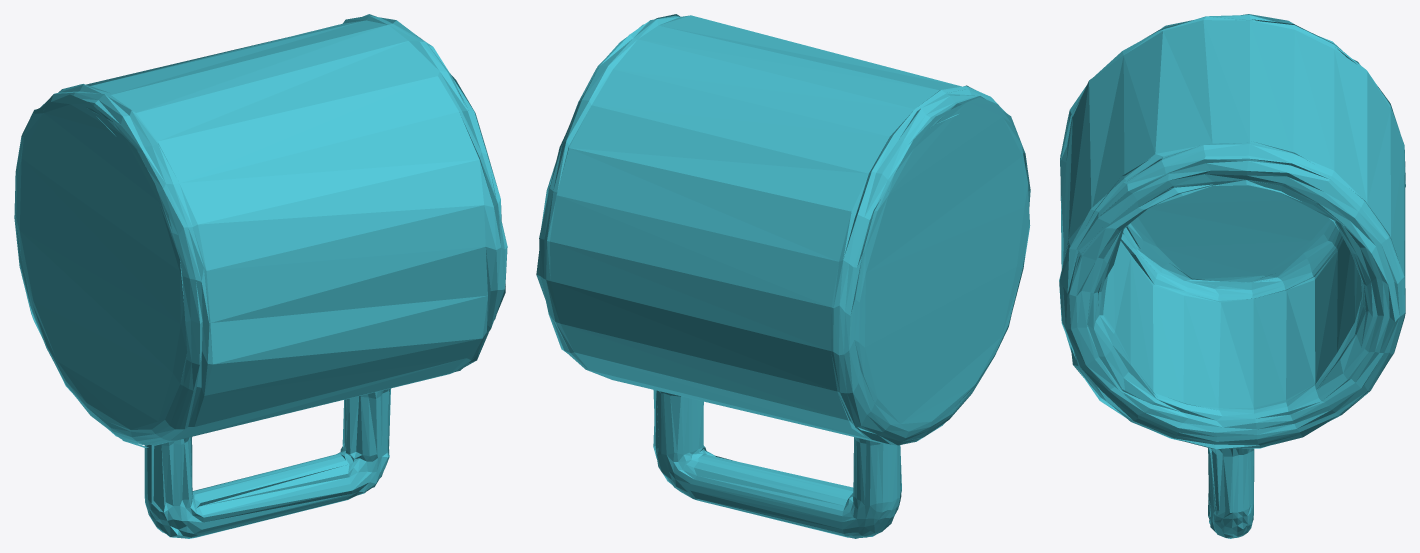
The picture shows the model from 3 angles, left to right: view 1: azimuth 30°, elevation 25°; view 2: azimuth 150°, elevation 25°; view 3: azimuth 270°, elevation 25°; orthographic projection. The views are drawn at different scales.
Parts seen in each view (by area): view 1: Renderer Node; view 2: Renderer Node; view 3: Renderer Node.
Part boxes in pixels (x1,y1,x2,y2): Renderer Node: (14,14,507,538); Renderer Node: (536,14,1030,538); Renderer Node: (1059,14,1405,538).
Bounding box in the file's own units: 0.5023 × 0.6816 × 0.5096.
Materials: 1 (1 with a texture image).
